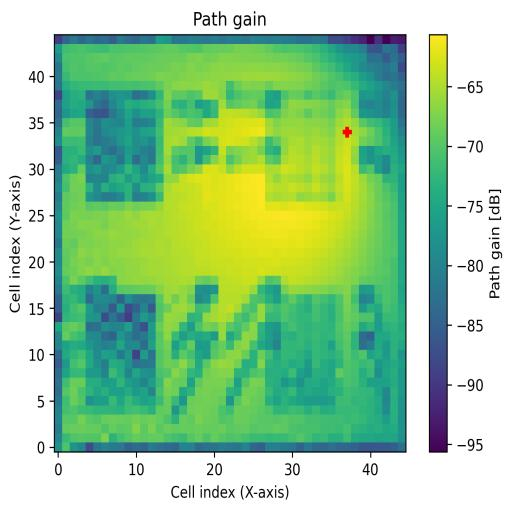Concrete: (265, 90, 335, 203)
Glass: (86, 90, 163, 203)
Metal: (266, 294, 343, 407)
Wood: (86, 294, 162, 406)
